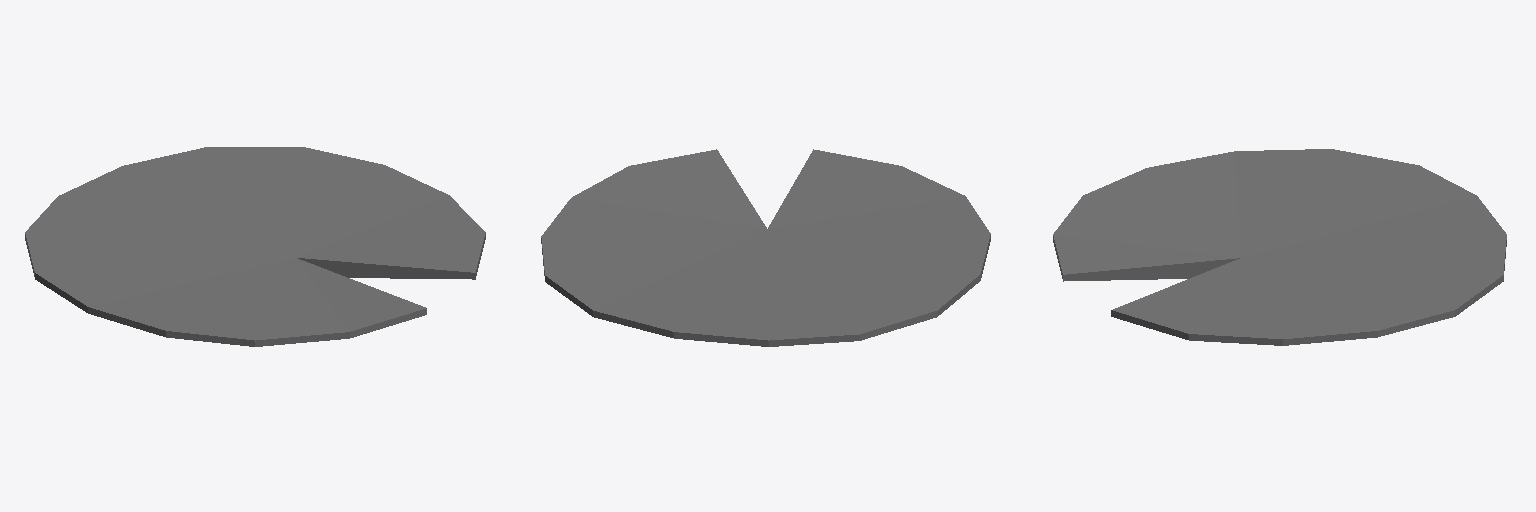
File: lilypad.obj
3 renders of one model, left to right at view 1: azimuth 30°, elevation 25°; view 2: azimuth 150°, elevation 25°; view 3: azimuth 270°, elevation 25°, orthographic.
Parts seen in each view (by area): view 1: Grote_Lily; view 2: Grote_Lily; view 3: Grote_Lily.
Boxes of the visible parts, box(x1,y1,x2,y2) form: Grote_Lily: box(25, 147, 485, 346); Grote_Lily: box(541, 149, 990, 346); Grote_Lily: box(1053, 149, 1506, 345).
Size of the model in its own units: 1.95 by 0.1133 by 1.96.